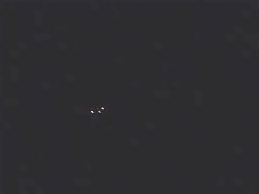Plane: (83, 102, 114, 118)
